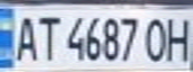4: (63, 11, 87, 62)
6: (81, 12, 103, 62)
7: (118, 12, 142, 62)
8: (100, 12, 124, 62)
A: (9, 10, 39, 62)
H: (163, 14, 193, 63)
O: (142, 14, 172, 63)
T: (33, 11, 60, 62)
